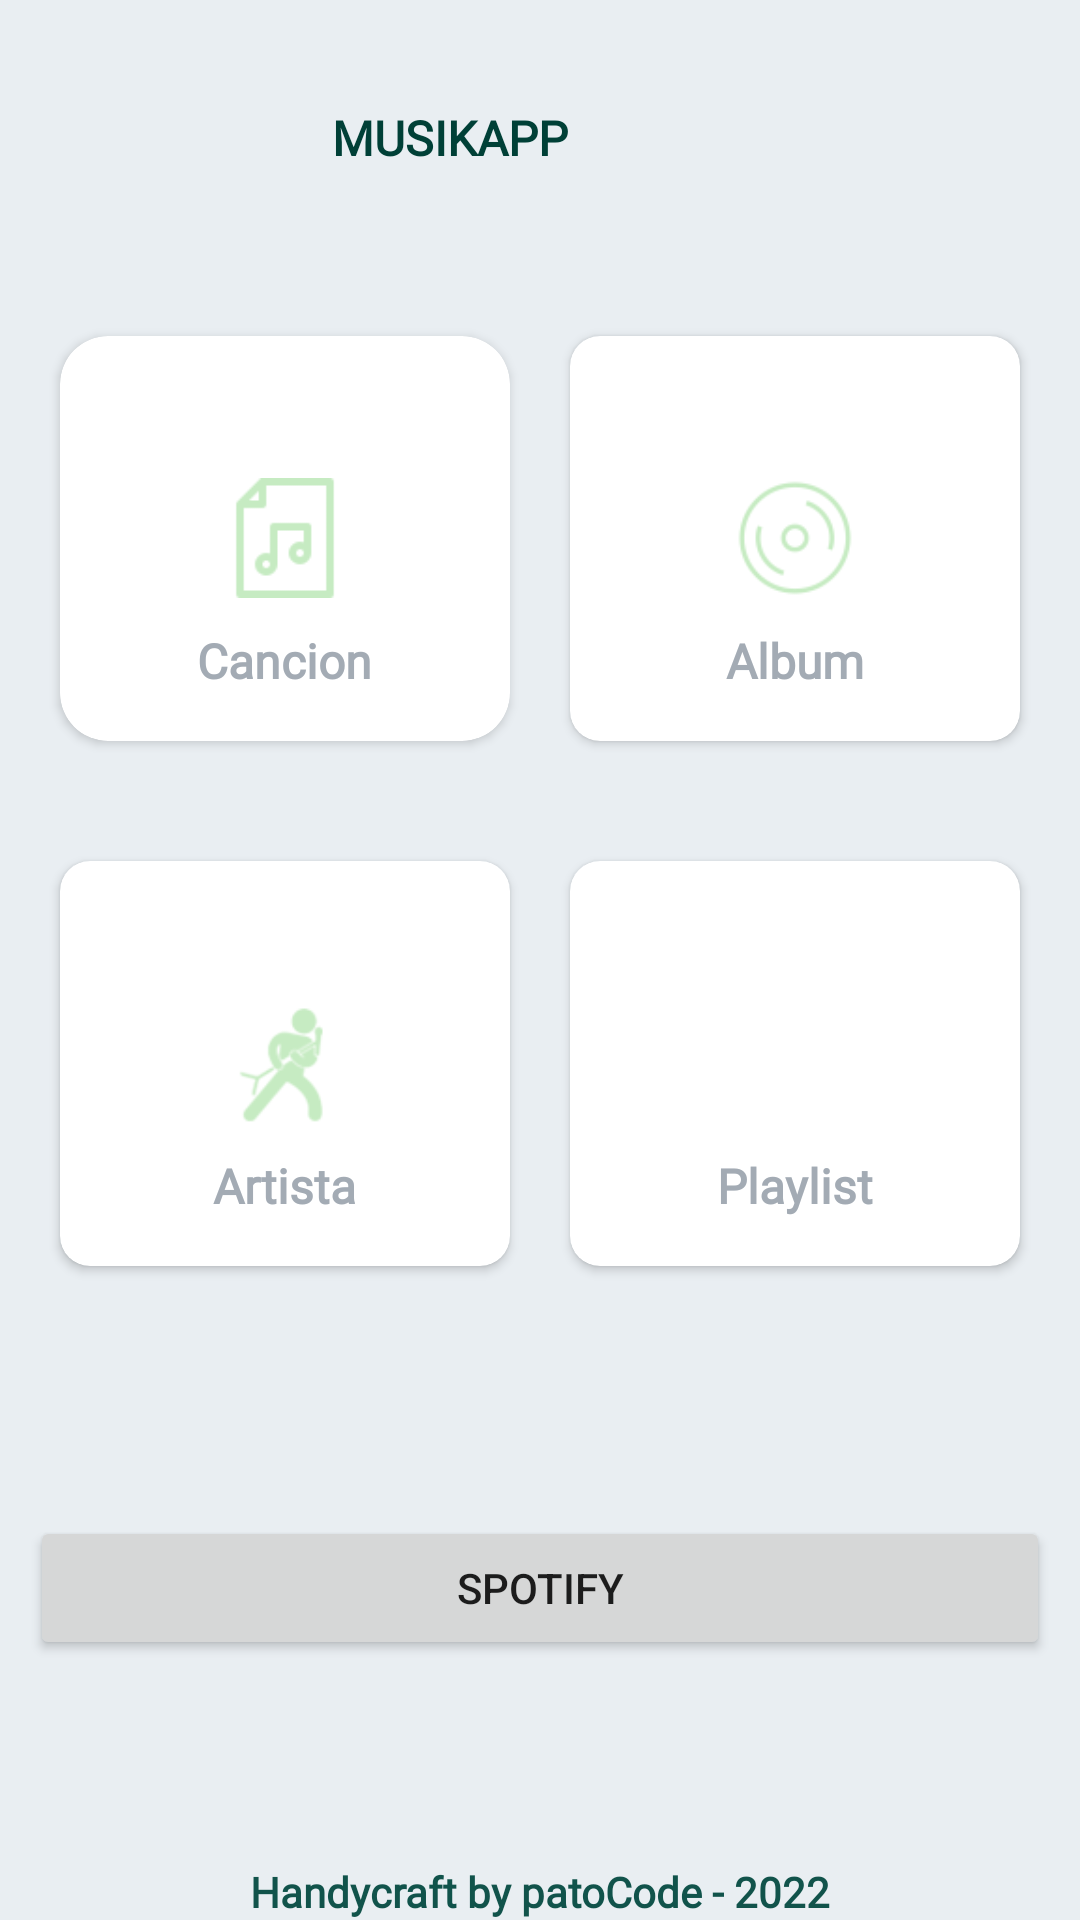

Screen size 1080 x 1920. Icon name, then its center in pixels as (x,y):
song: (285,538)
